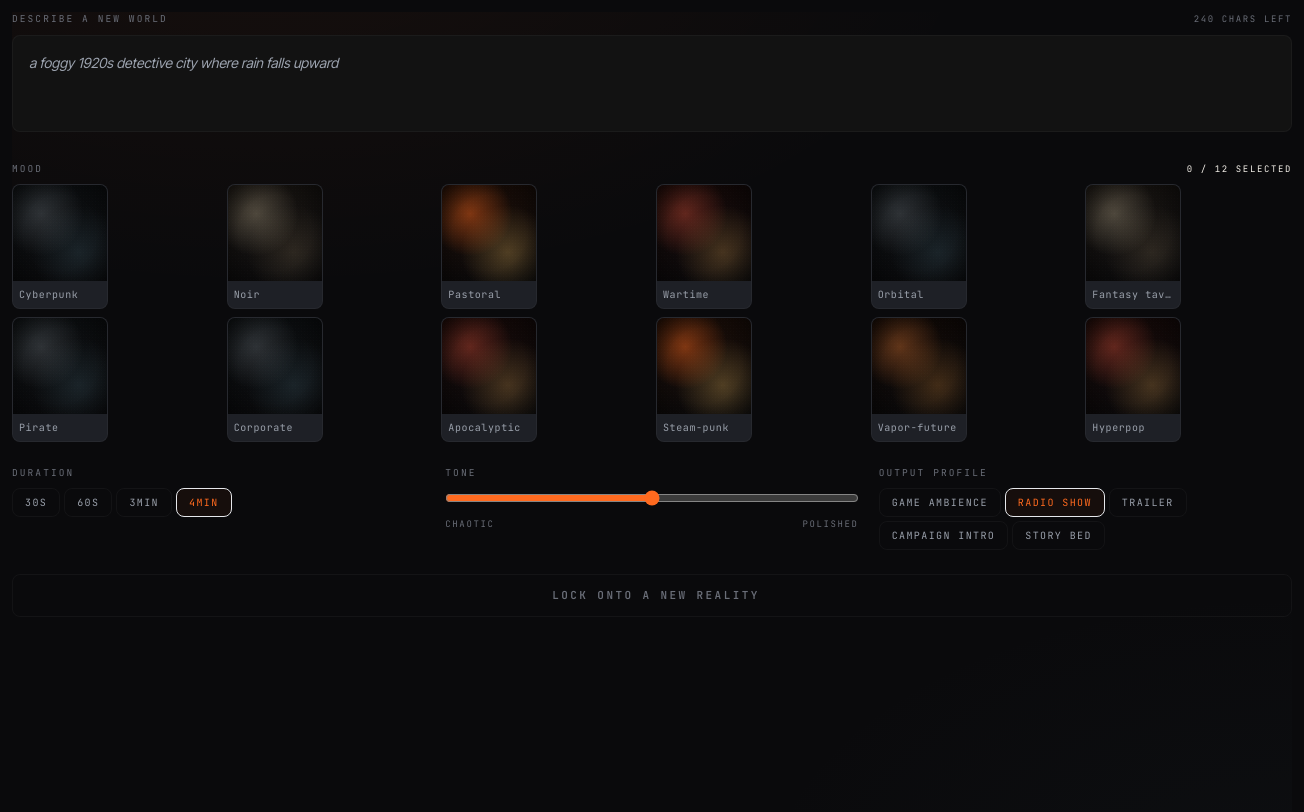
StudioPrompt › typing in textarea enables Lock CTA
This screenshot has width=1304, height=812.
Step 1. Type "rain falls upward" into the text box with test id "studio-prompt-textarea" → (652, 83), box [12,34,1292,132]
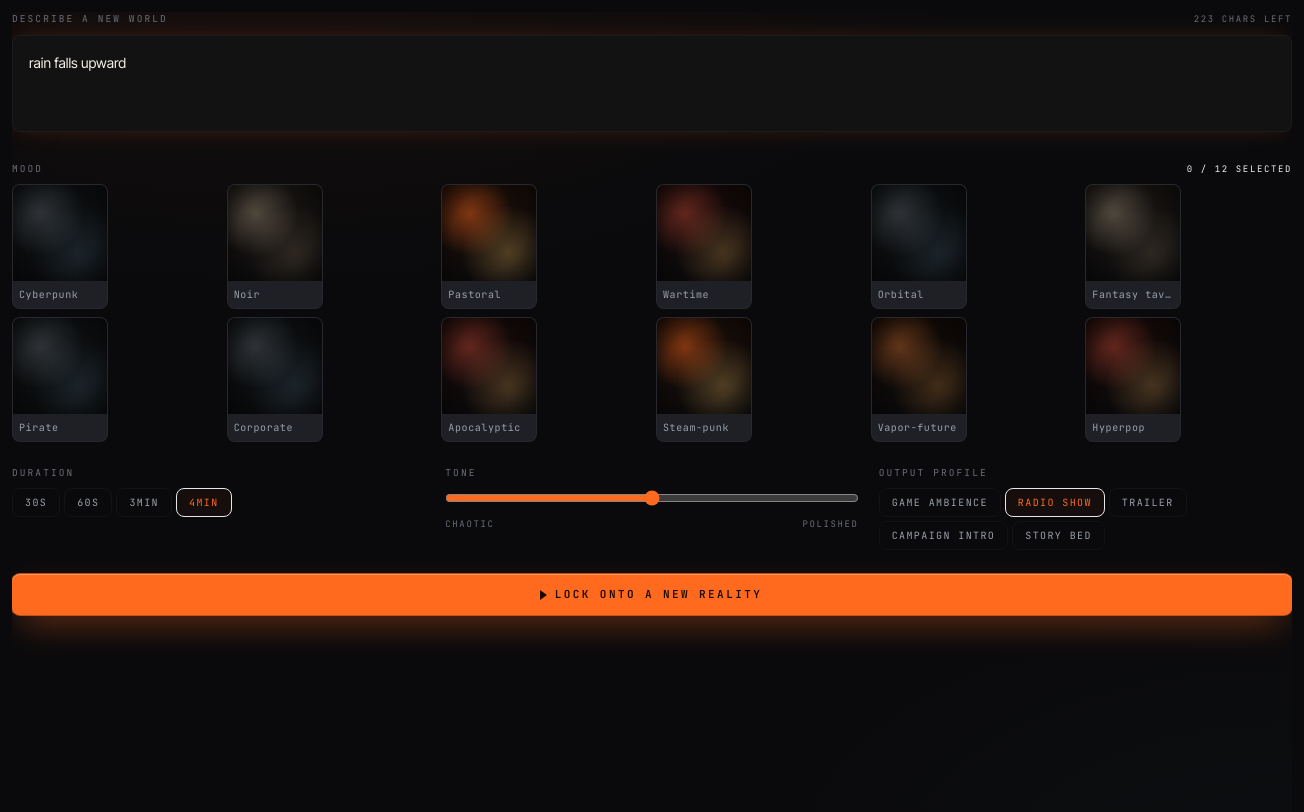
expect the button with test id "studio-lock" is enabled: met, box [12,574,1292,615]
